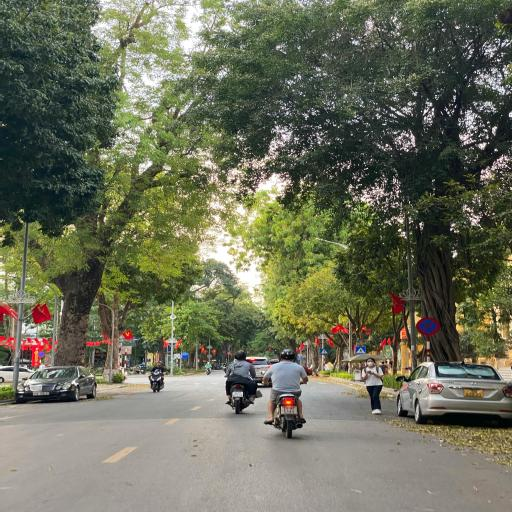place: (464, 388, 482, 398), (282, 407, 296, 414), (232, 392, 243, 398)
